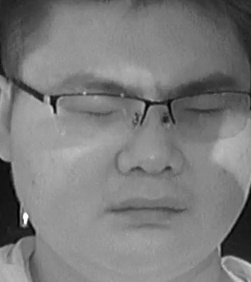blink: (181, 103, 218, 119), (80, 105, 114, 122)
glass: (50, 89, 147, 144), (166, 89, 250, 140)
mouth: (108, 193, 184, 229)
